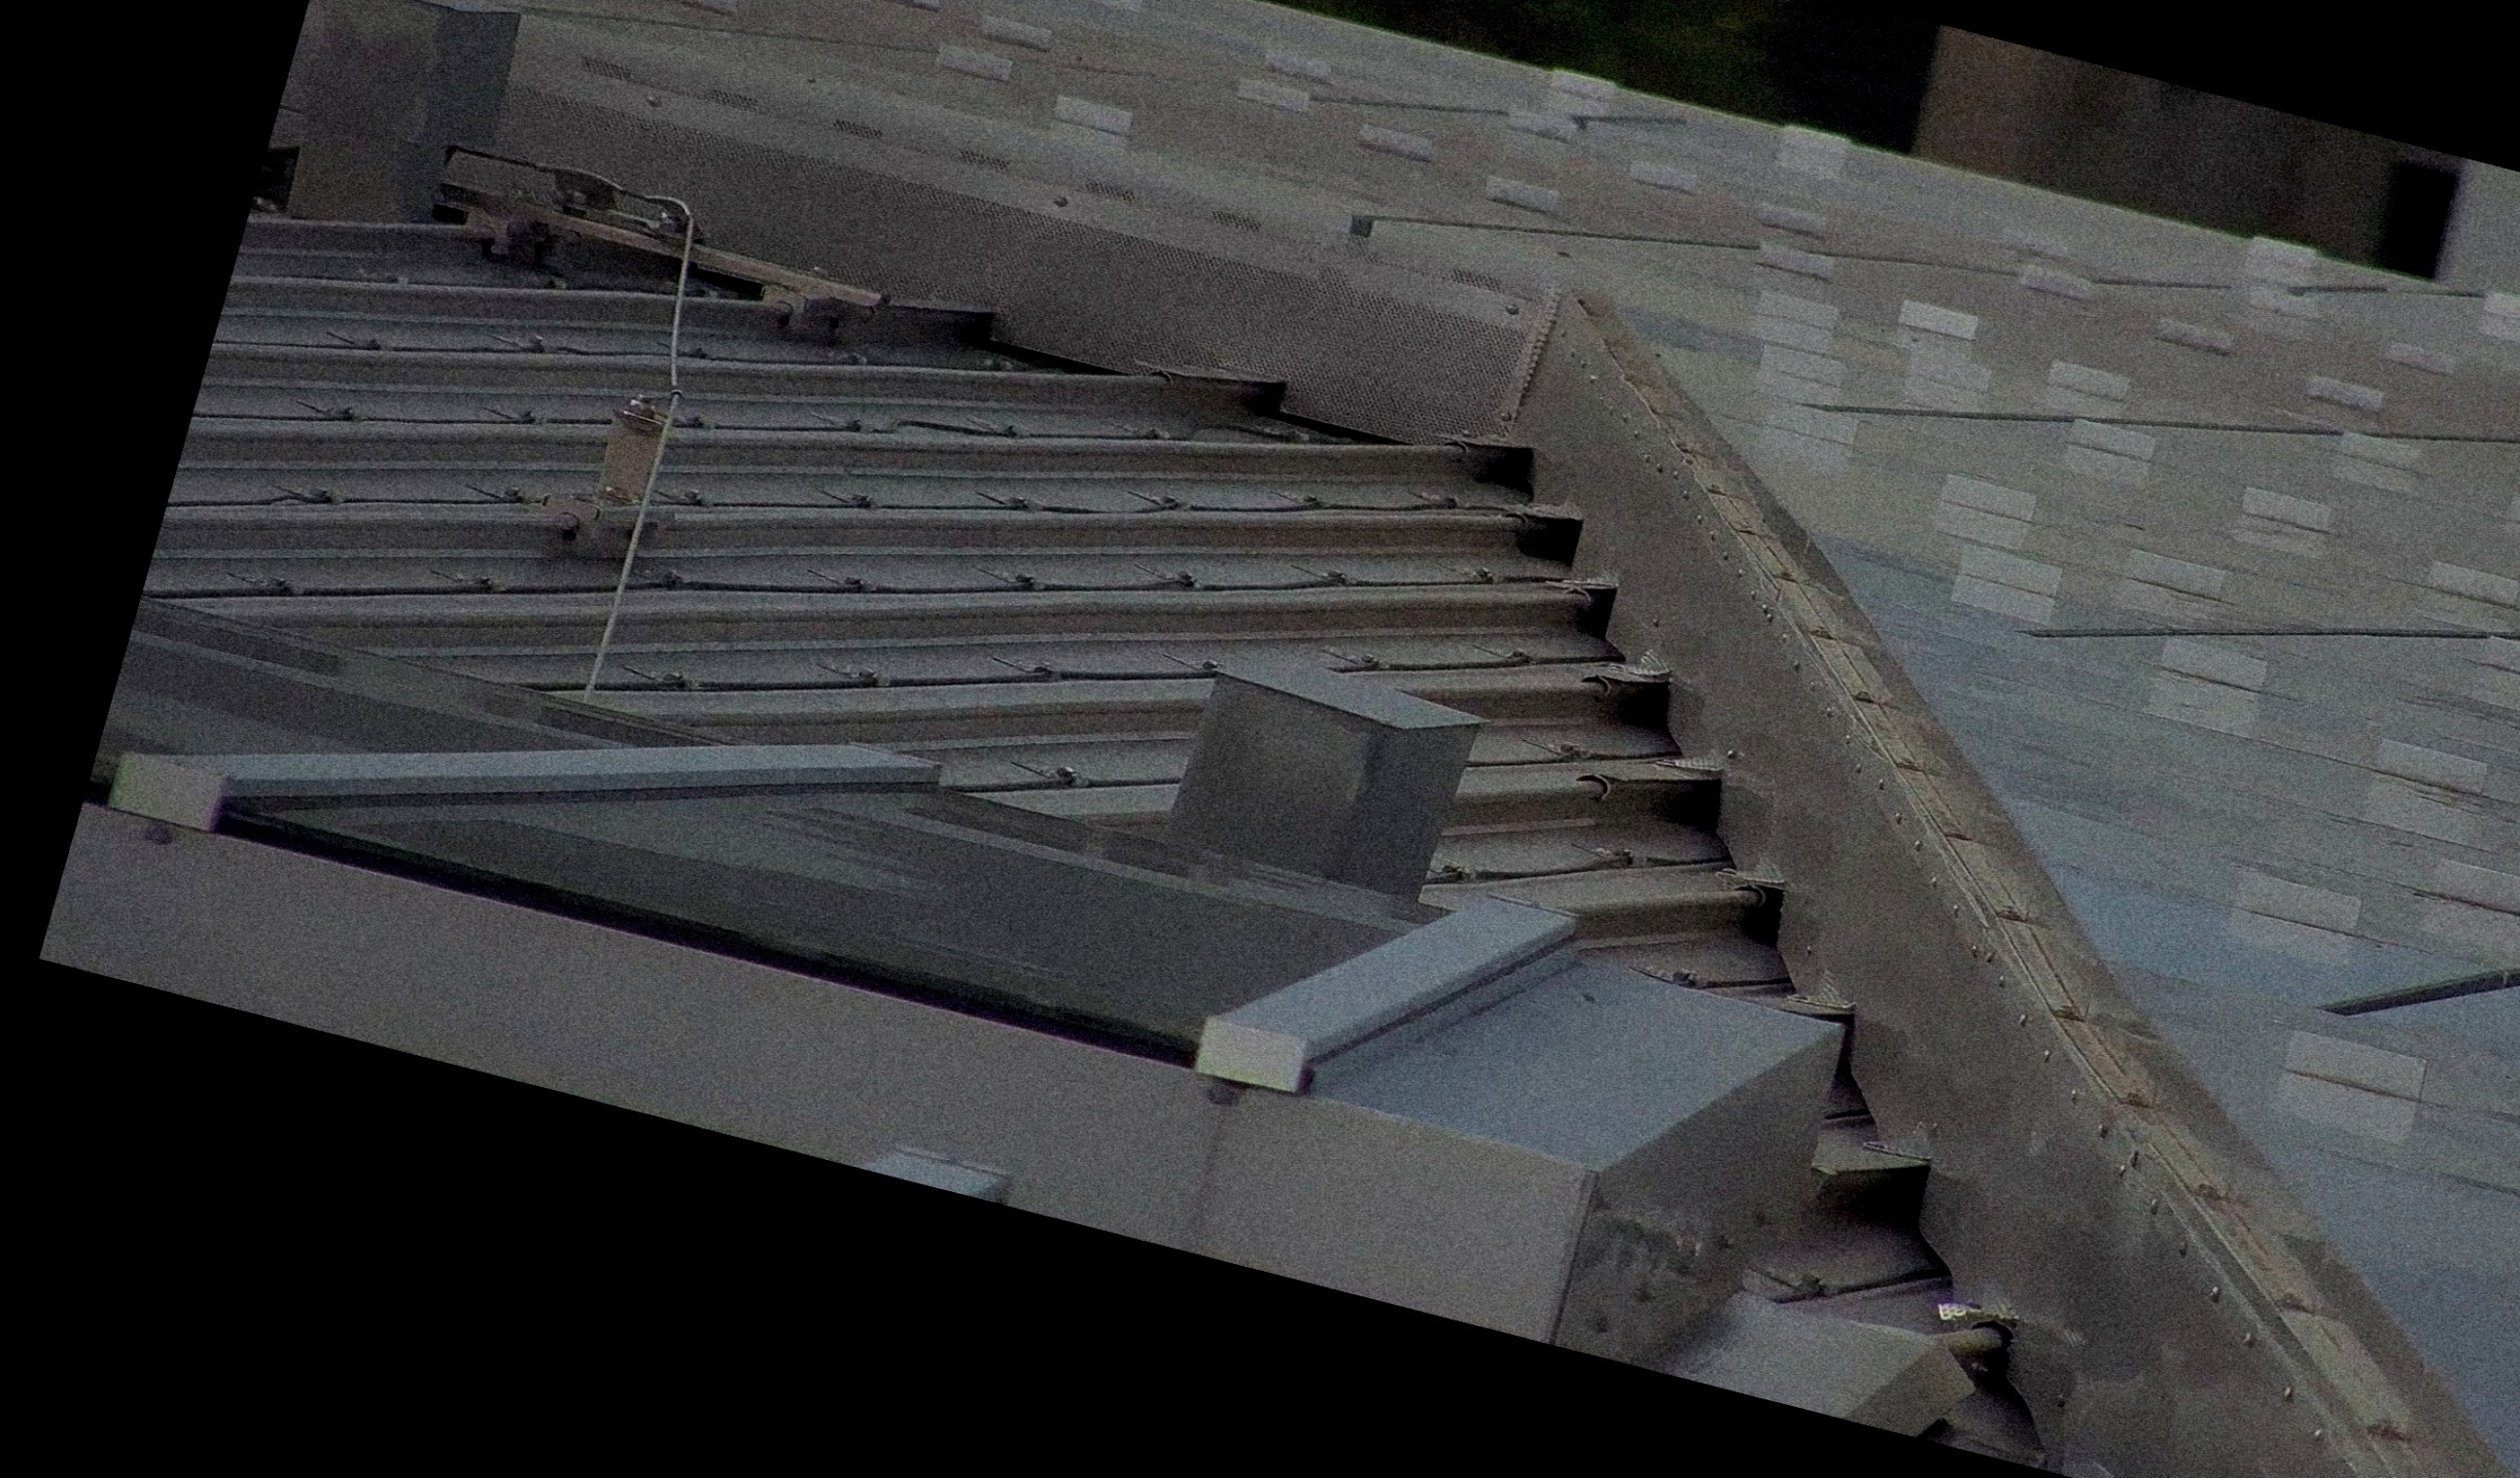Other: (1885, 1277, 2093, 1473)
